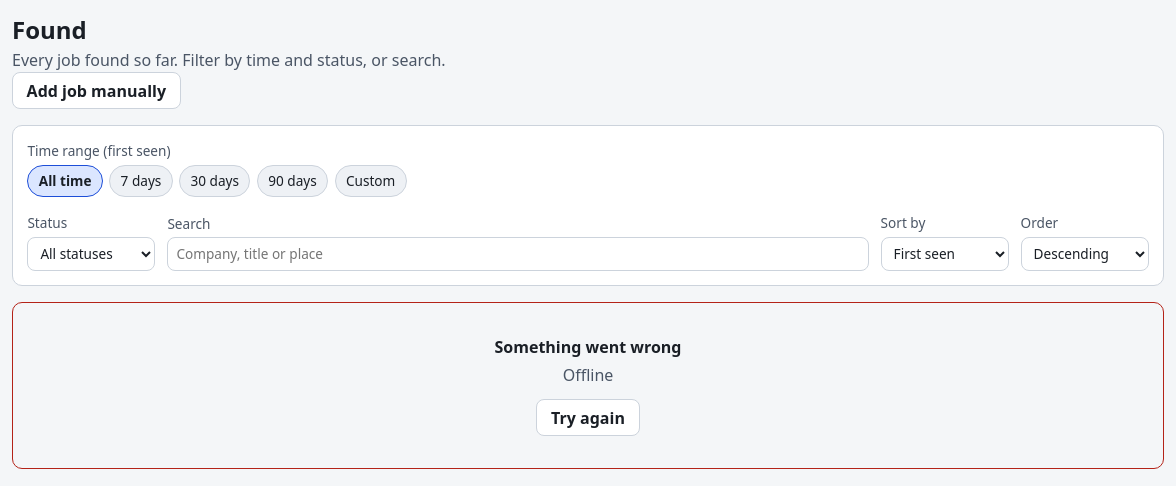
Test case: FoundPage › shows the api error and retries
Expected: the message shows "Offline", [563, 364, 613, 386]
Step 1. Click the button "Try again" → (588, 418), box [536, 399, 640, 436]
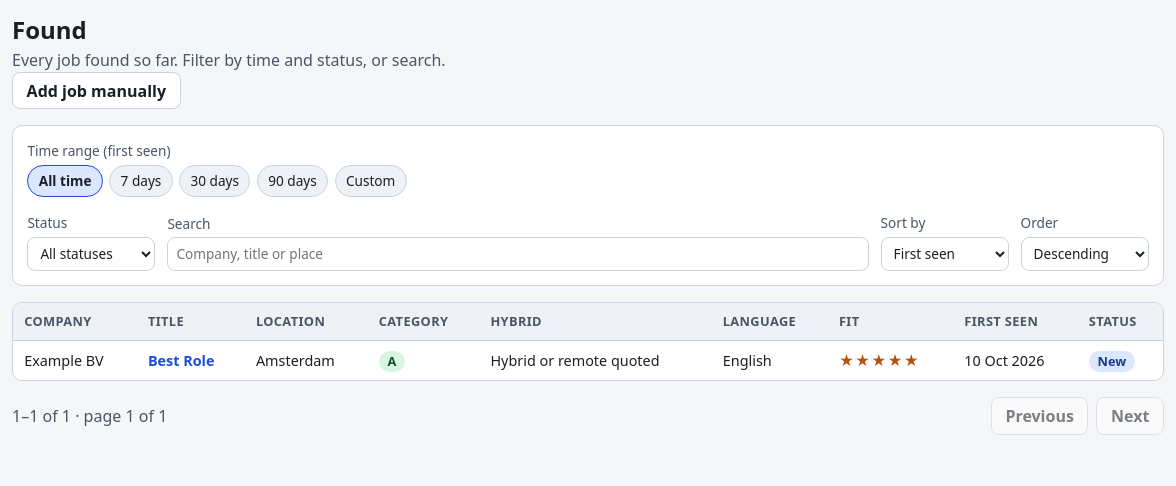
Result: the table is shown at [13, 303, 1163, 380]
